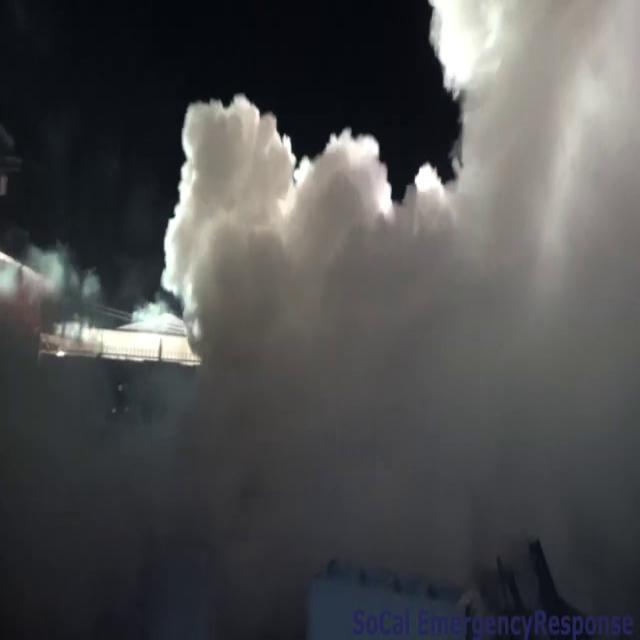Smoke: (28, 86, 640, 634)
